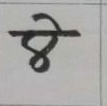e_matra: (32, 13, 66, 30)
